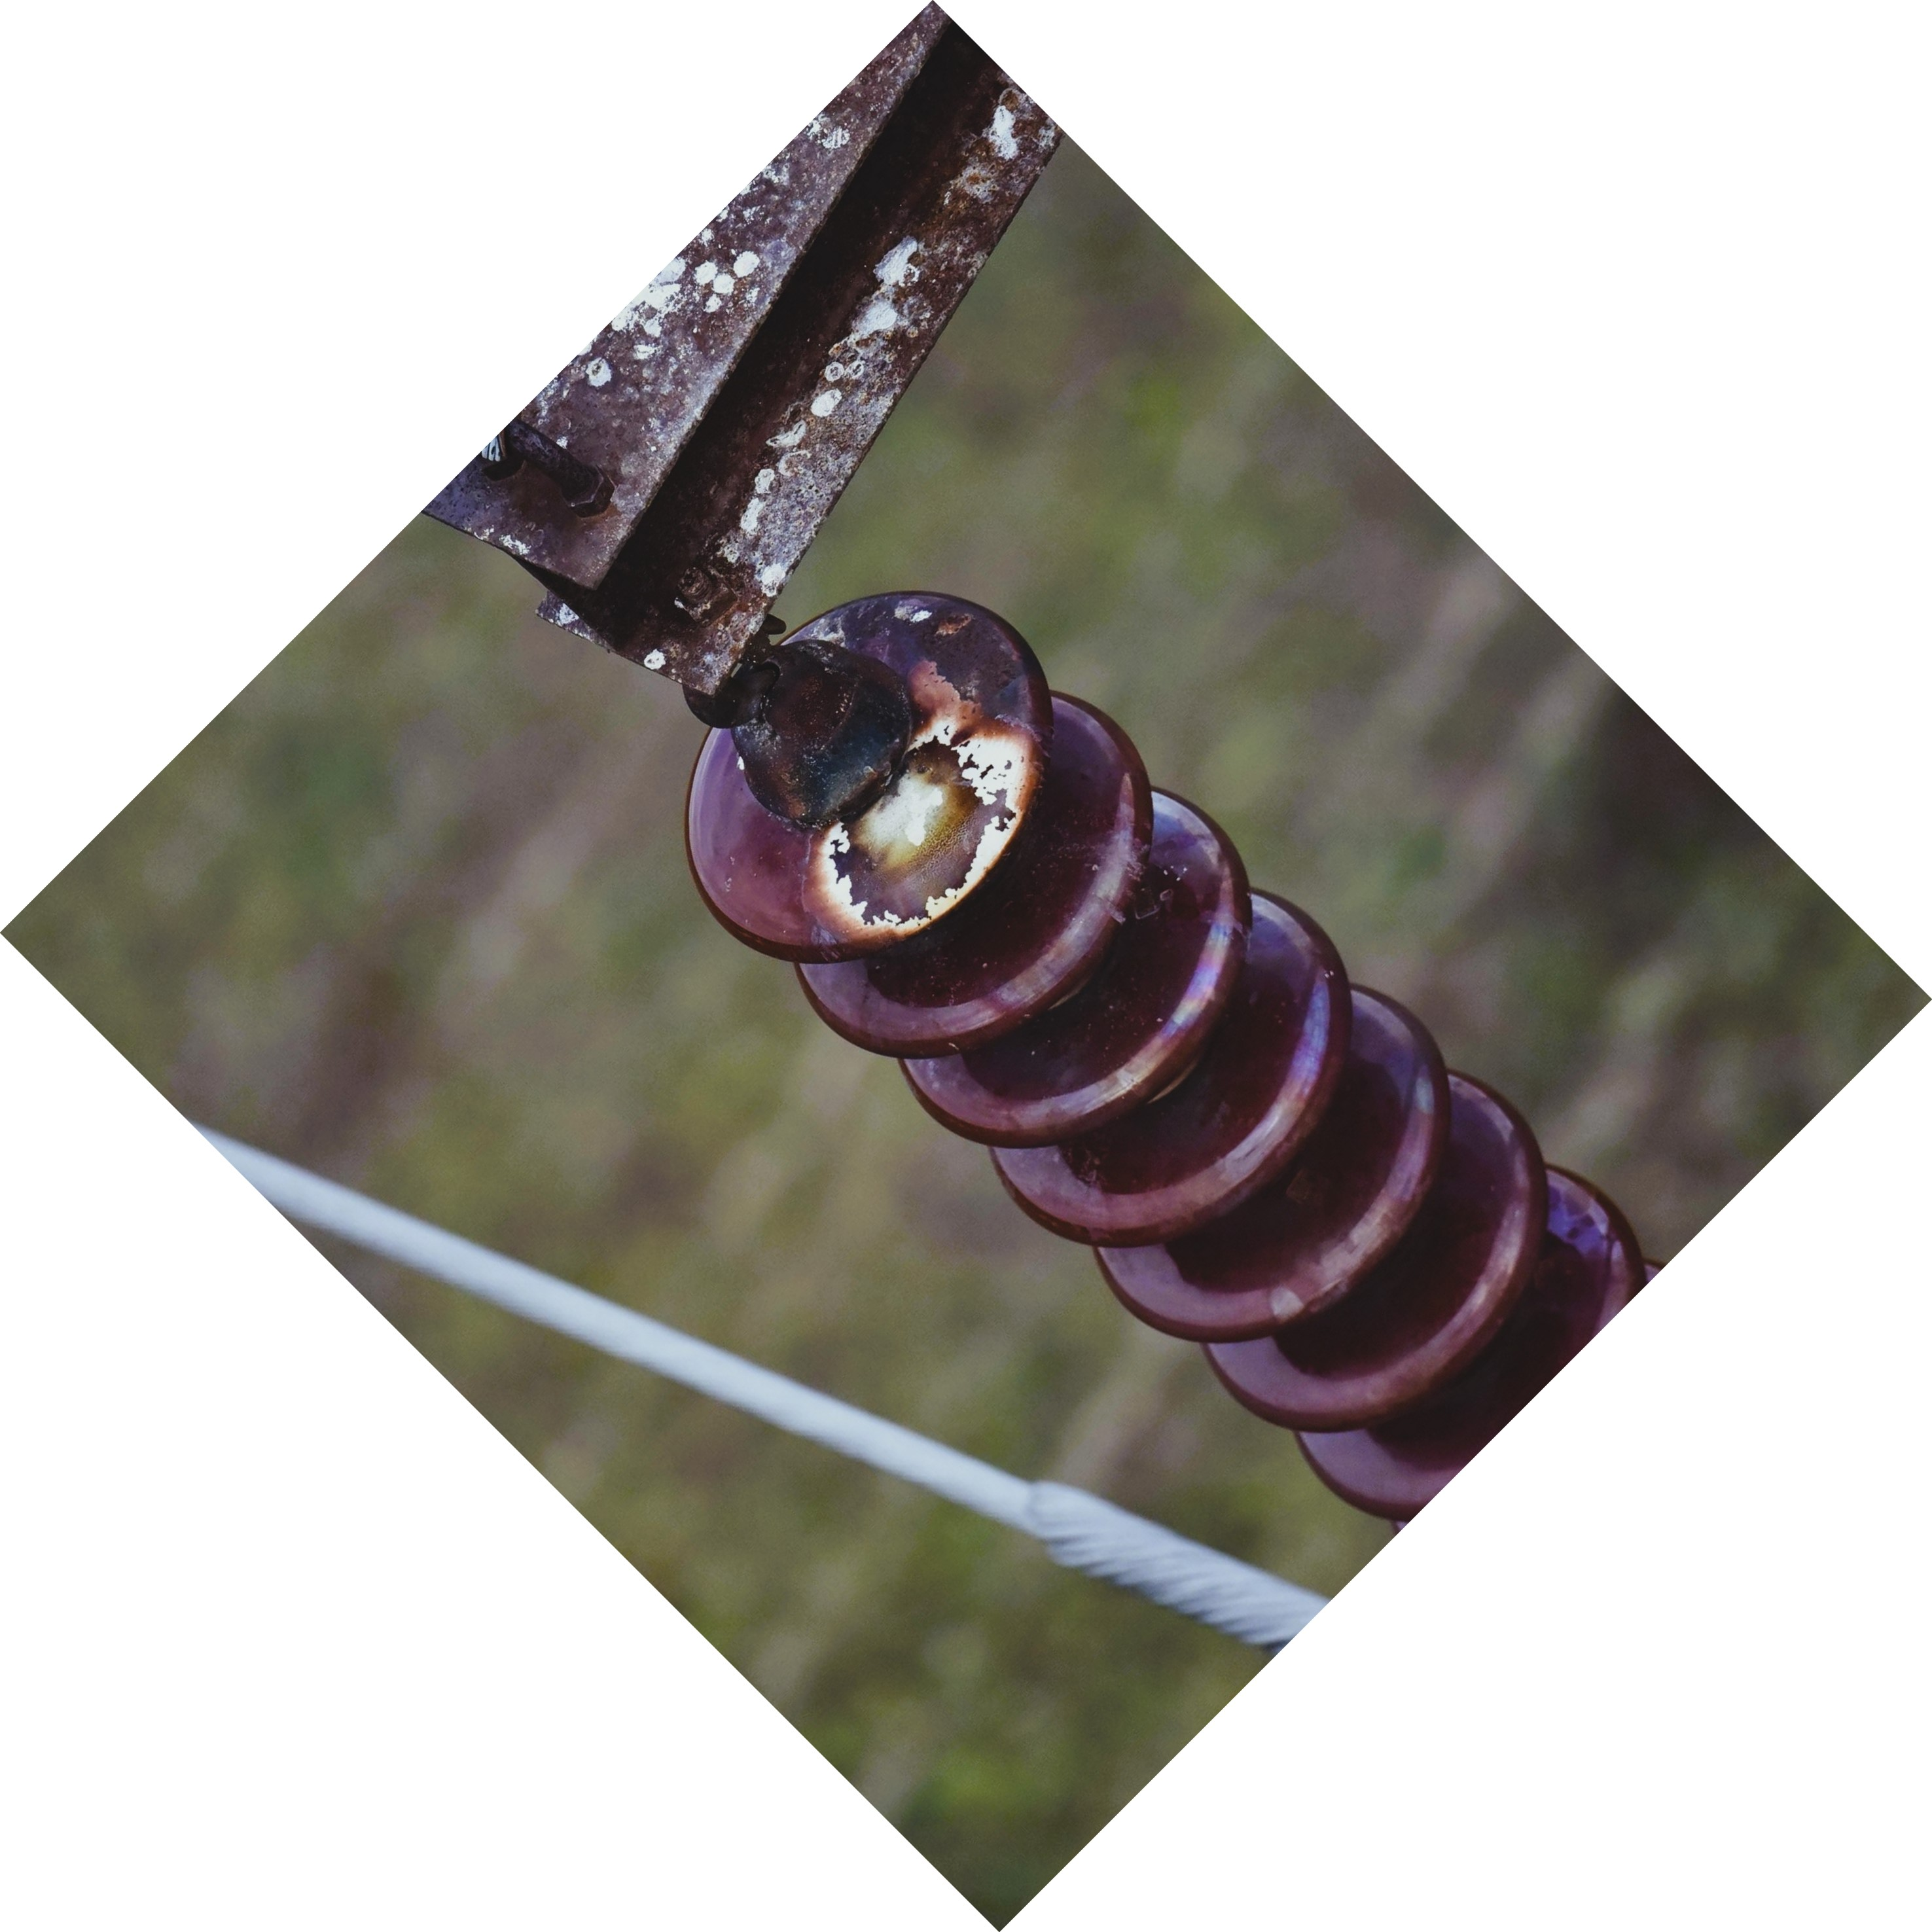Insulator flashover: (637, 580, 1060, 968)
